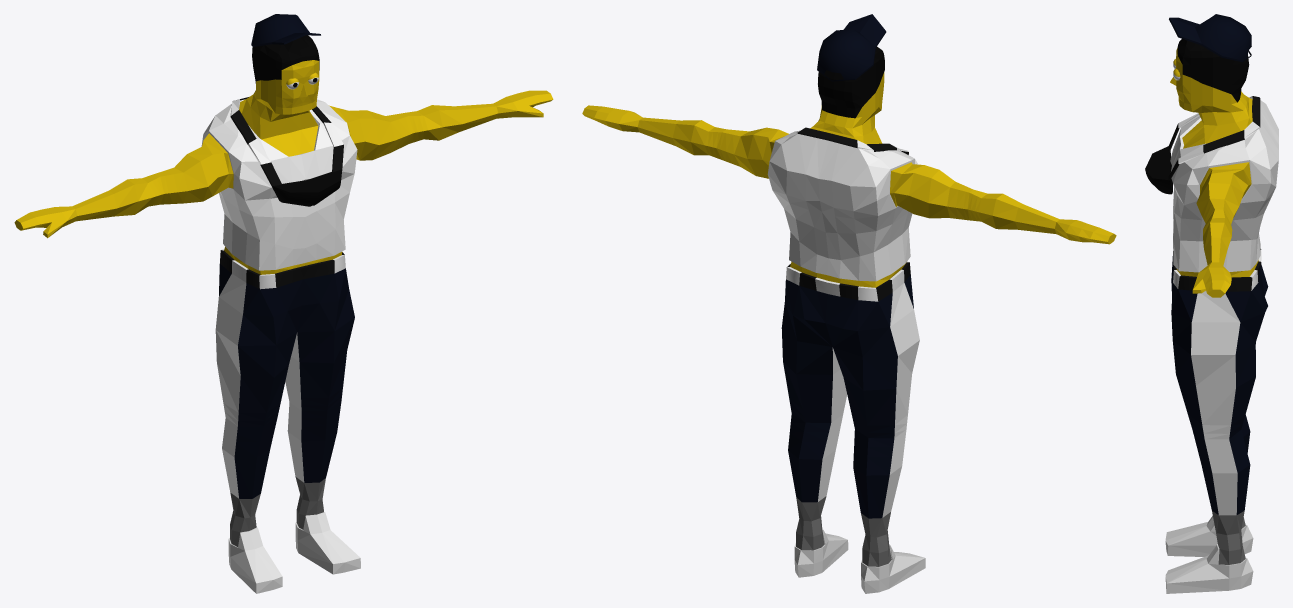
The model's file is Guna.fbx.
The picture shows the model from 3 angles, left to right: view 1: azimuth 30°, elevation 25°; view 2: azimuth 150°, elevation 25°; view 3: azimuth 270°, elevation 25°; orthographic projection.
Visible parts, largest first — view 1: Guna; view 2: Guna; view 3: Guna.
Part boxes in pixels (left/top/right/bottom): Guna: left=14, top=14, right=553, bottom=593; Guna: left=582, top=14, right=1116, bottom=593; Guna: left=1145, top=14, right=1278, bottom=593.
Bounding box in the file's own units: 1.8 × 1.77 × 0.3905.
